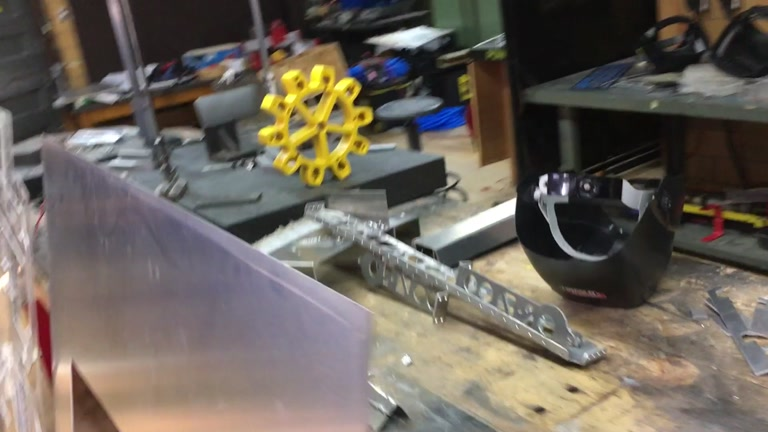gear: (260, 65, 374, 189)
